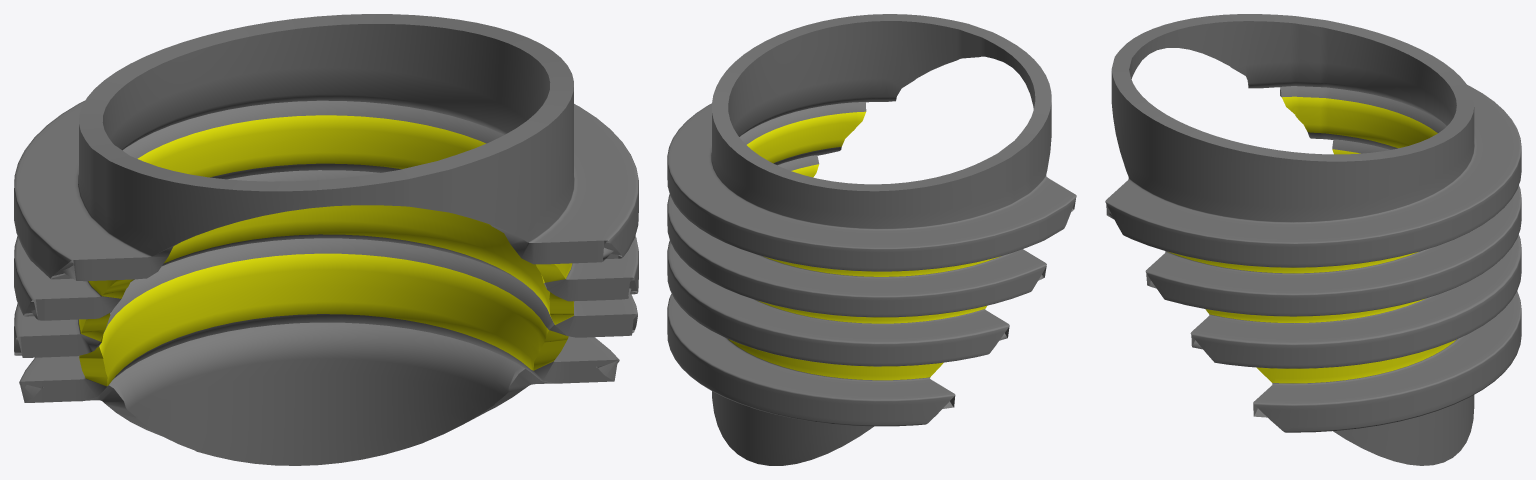
The model's file is DebrisSmallMetalBroken07.fbx.
3 renders of one model, left to right at view 1: azimuth 30°, elevation 25°; view 2: azimuth 150°, elevation 25°; view 3: azimuth 270°, elevation 25°, orthographic. The views are drawn at different scales.
Visible parts, largest first — view 1: polySurface175; view 2: polySurface175; view 3: polySurface175.
Boxes of the visible parts, x1=… form: polySurface175: x1=14, y1=14, x2=638, y2=465; polySurface175: x1=667, y1=14, x2=1076, y2=465; polySurface175: x1=1105, y1=14, x2=1521, y2=465.
Size of the model in its own units: 26.17 by 22.24 by 23.81.
